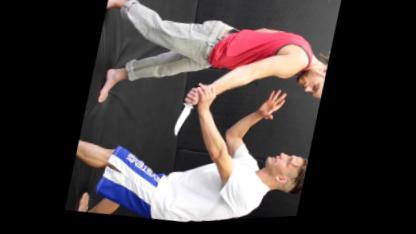knife: (170, 80, 203, 142)
